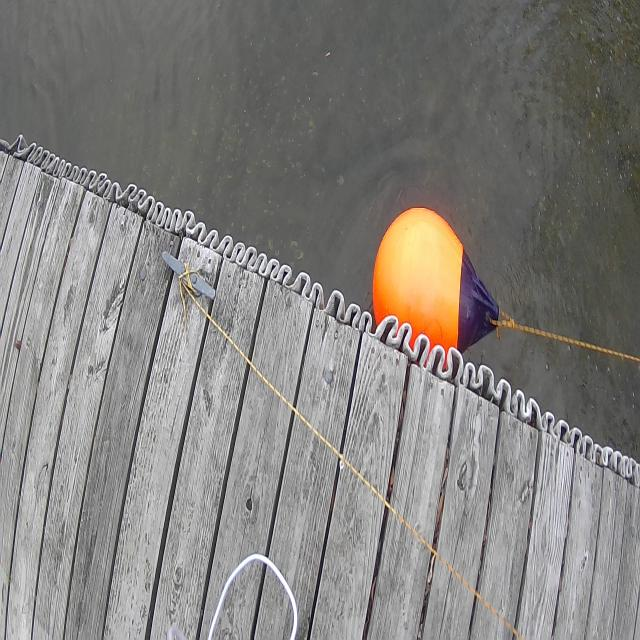Buoy: (362, 194, 508, 394)
